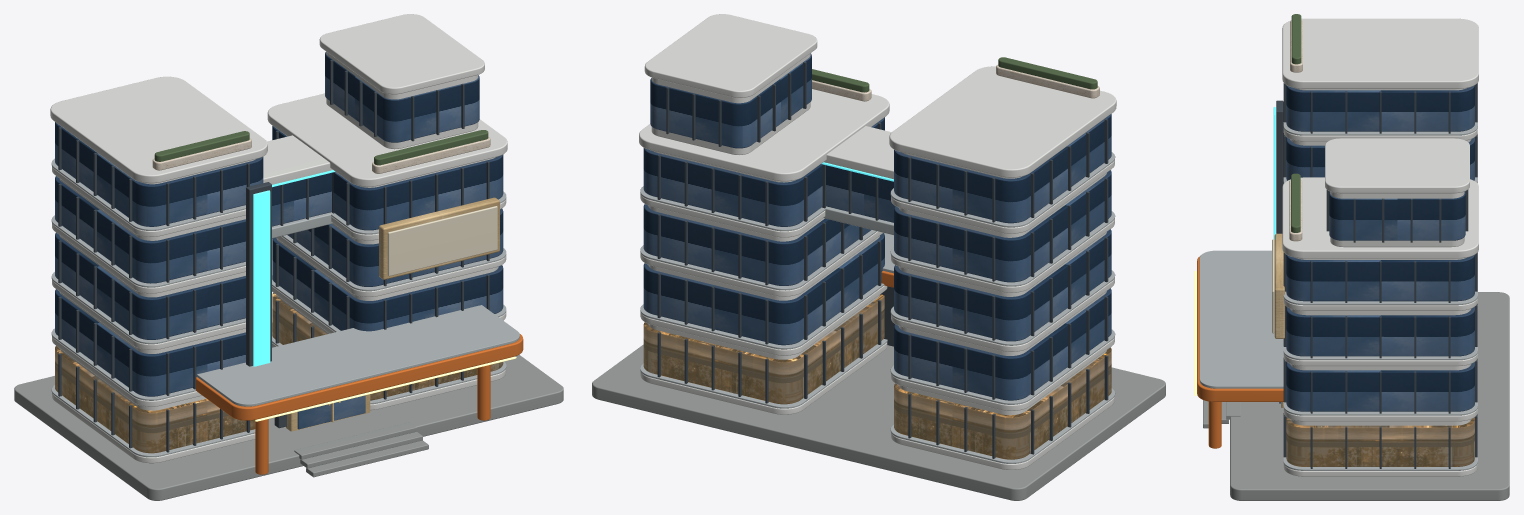
Rendered from level-4-web.glb.
The picture shows the model from 3 angles, left to right: view 1: azimuth 30°, elevation 25°; view 2: azimuth 150°, elevation 25°; view 3: azimuth 270°, elevation 25°; orthographic projection. The views are drawn at different scales.
Parts seen in each view (by area): view 1: body, roof, entrance, foundation, floors, details, sign, bridge; view 2: body, roof, foundation, floors, bridge, details, entrance; view 3: body, roof, foundation, entrance, floors, details, sign.
Boxes of the visible parts, x1,y1,x2,y2 form: body: (55, 122, 503, 453); roof: (50, 14, 507, 186); entrance: (196, 305, 523, 477); foundation: (14, 323, 563, 500); floors: (51, 158, 506, 463); details: (152, 130, 490, 366); sign: (379, 197, 499, 279); bridge: (263, 135, 335, 238); body: (643, 114, 1111, 459); roof: (639, 14, 1116, 181); foundation: (592, 344, 1165, 500); floors: (640, 152, 1115, 469); bridge: (821, 126, 894, 235); details: (812, 57, 1099, 101); entrance: (881, 233, 894, 346); body: (1283, 83, 1477, 468); roof: (1282, 18, 1478, 258); foundation: (1230, 292, 1509, 500); entrance: (1194, 250, 1283, 448); floors: (1283, 83, 1477, 476); details: (1273, 14, 1302, 241); sign: (1272, 233, 1284, 338).
Bounding box in the file's own units: 6.45 × 4.67 × 4.34.
13 materials, 4 textured.
